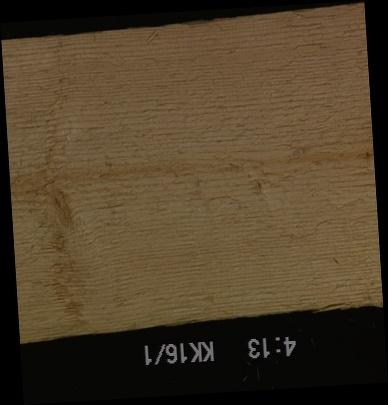small_knot: (255, 179, 263, 193), (363, 150, 370, 158)
split: (244, 302, 382, 313)
